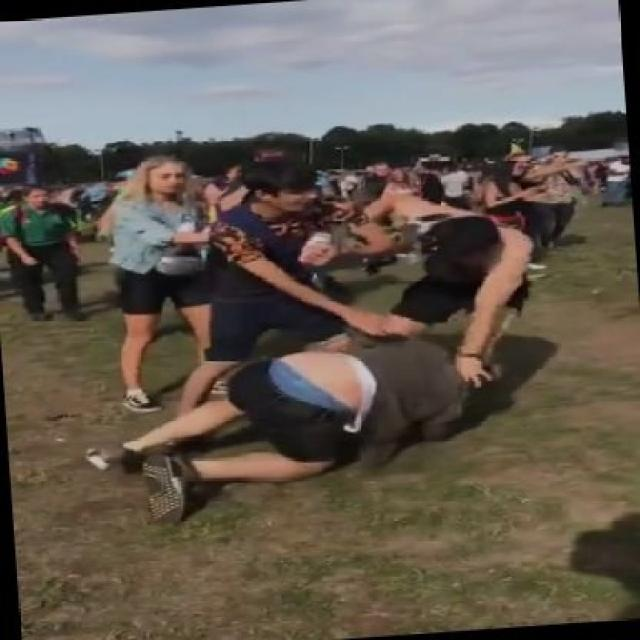fight: (86, 163, 534, 522)
non-fight: (98, 161, 218, 411), (1, 191, 82, 319)
